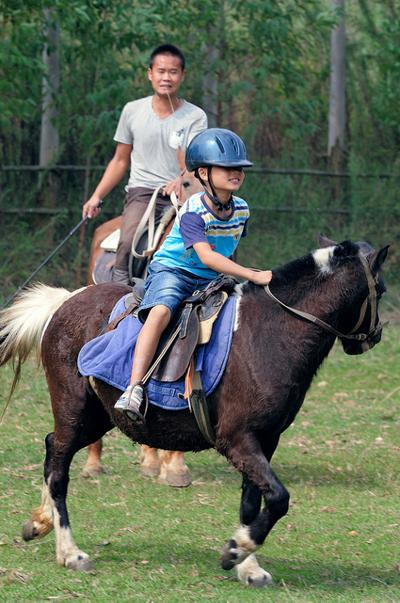person: (116, 130, 275, 423)
